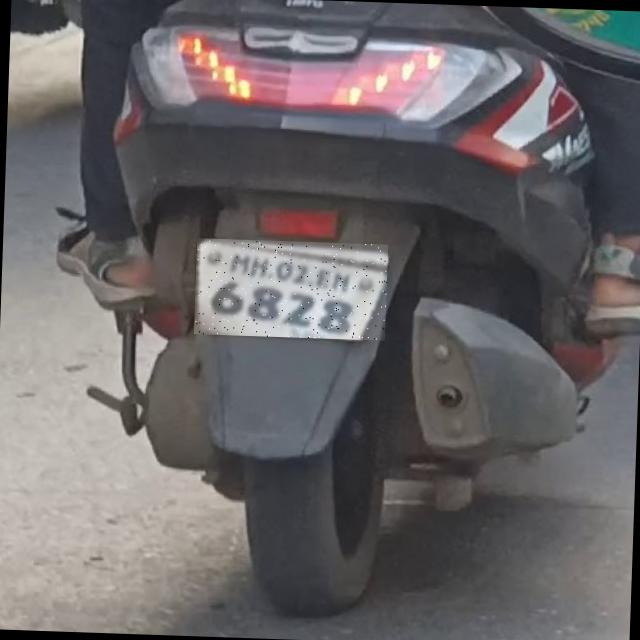Plate: (195, 239, 389, 342)
